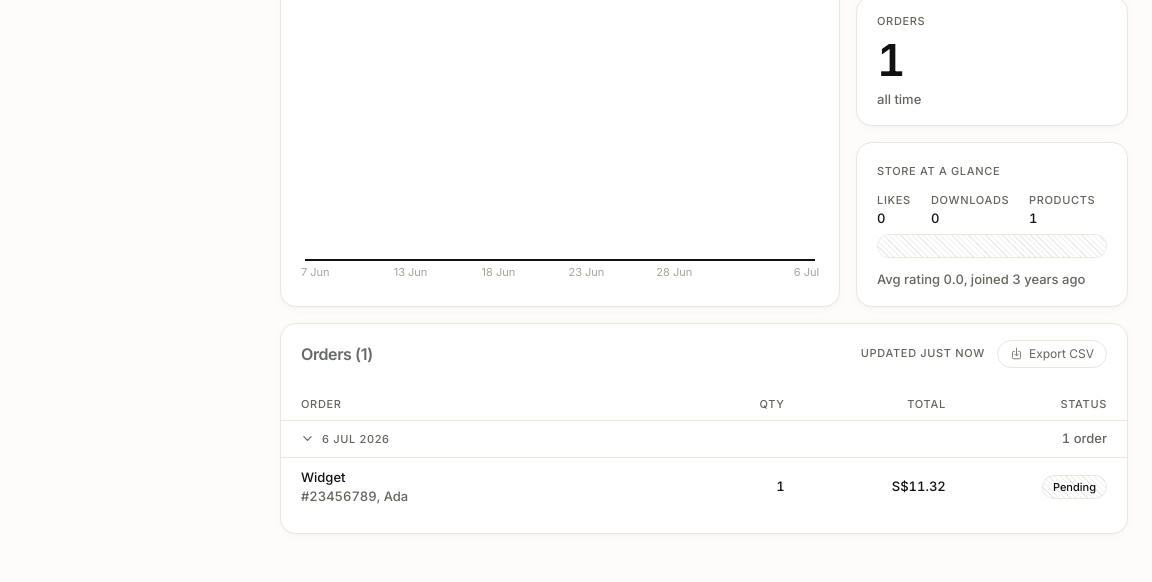
Creator home › collapses and re-expands a ledger day from its date strip
The width and height of the screenshot is (1152, 582).
(page scrolled)
Expected: the text "Widget" is shown, [301, 468, 346, 484]
Click the button "6 Jul 2026 1 order".
click(356, 438)  # box [281, 420, 1127, 458]
(page scrolled)
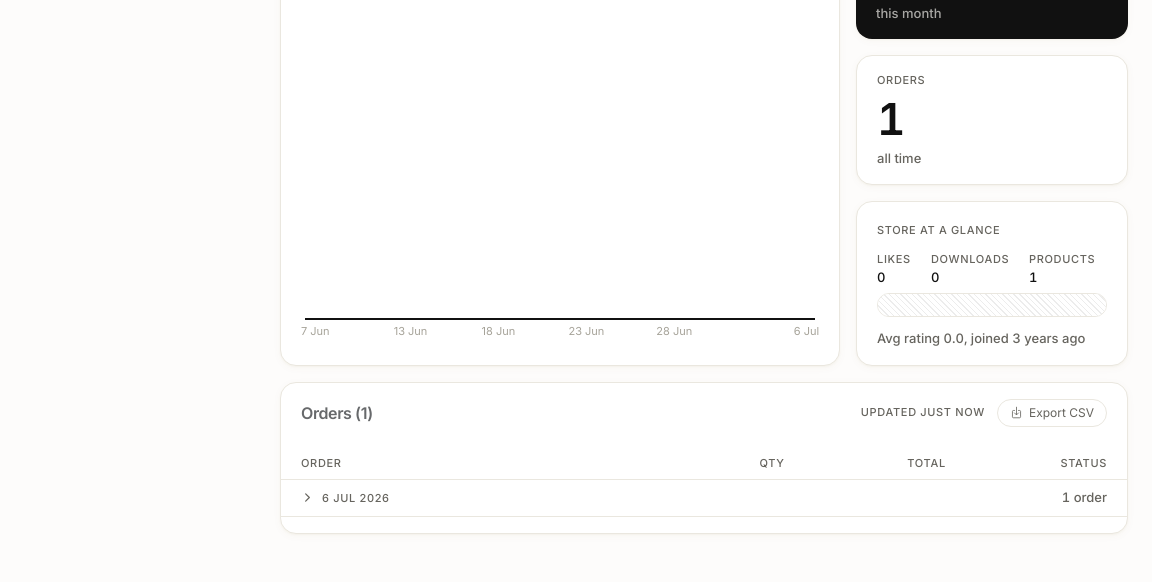
Now the button "6 Jul 2026 1 order" is collapsed
Now the button "Widget" is gone
Click the button "6 Jul 2026 1 order".
click(356, 498)  # box [281, 479, 1127, 516]
(page scrolled)
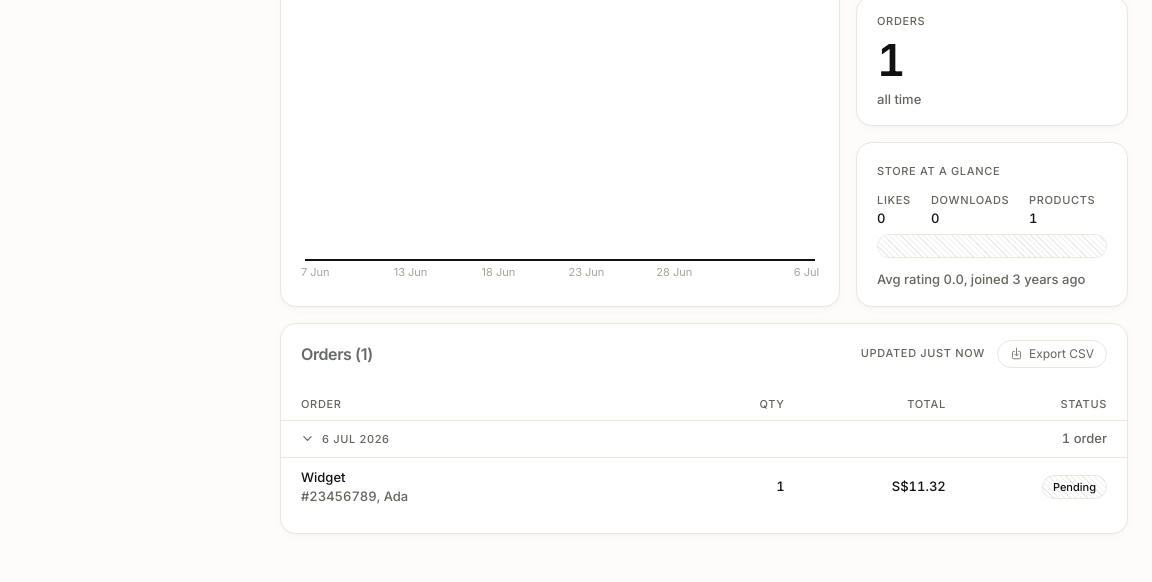
Now the button "6 Jul 2026 1 order" is expanded, box [281, 420, 1127, 458]
Now the text "Widget" is shown, box [301, 468, 346, 484]
